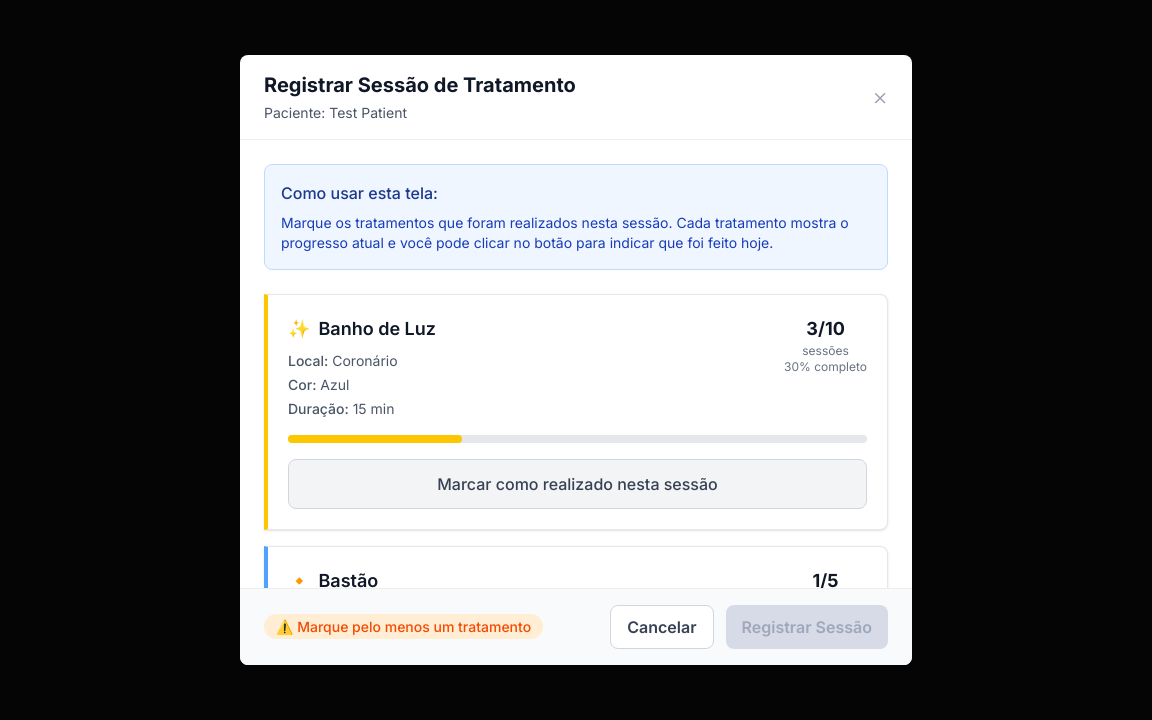
Scenario: PostTreatmentModal › Treatment Cards › should allow toggling treatment completion
Expected: the text "⚠️ Marque pelo menos um tratamento" is shown, 264,614 -> 543,639
Click to mark as completed
Click the button "Marcar como realizado nesta sessão" at (578, 484), box 288,459 -> 867,509
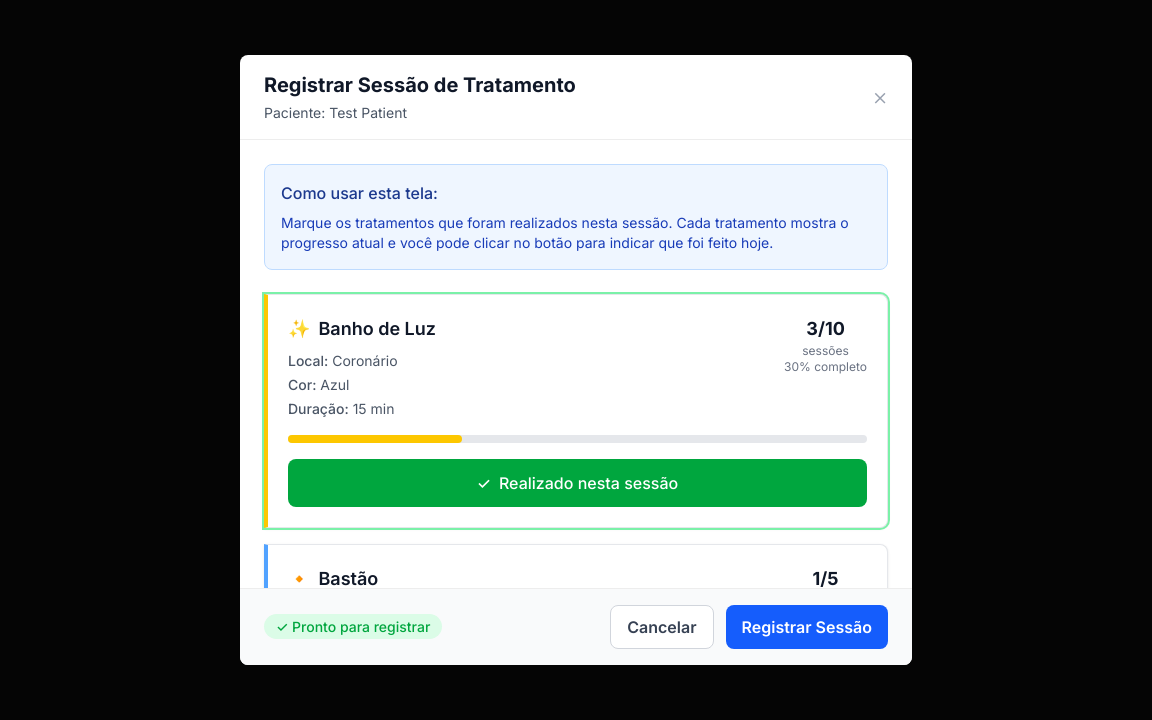
Result: the text "✓ Pronto para registrar" is shown at 264,614 -> 442,639
Result: the text "Realizado nesta sessão" is shown at 499,473 -> 678,493
Click again to unmark
Click the button named "marcar como realizado nesta sessão" at (578, 483), box 288,459 -> 867,507
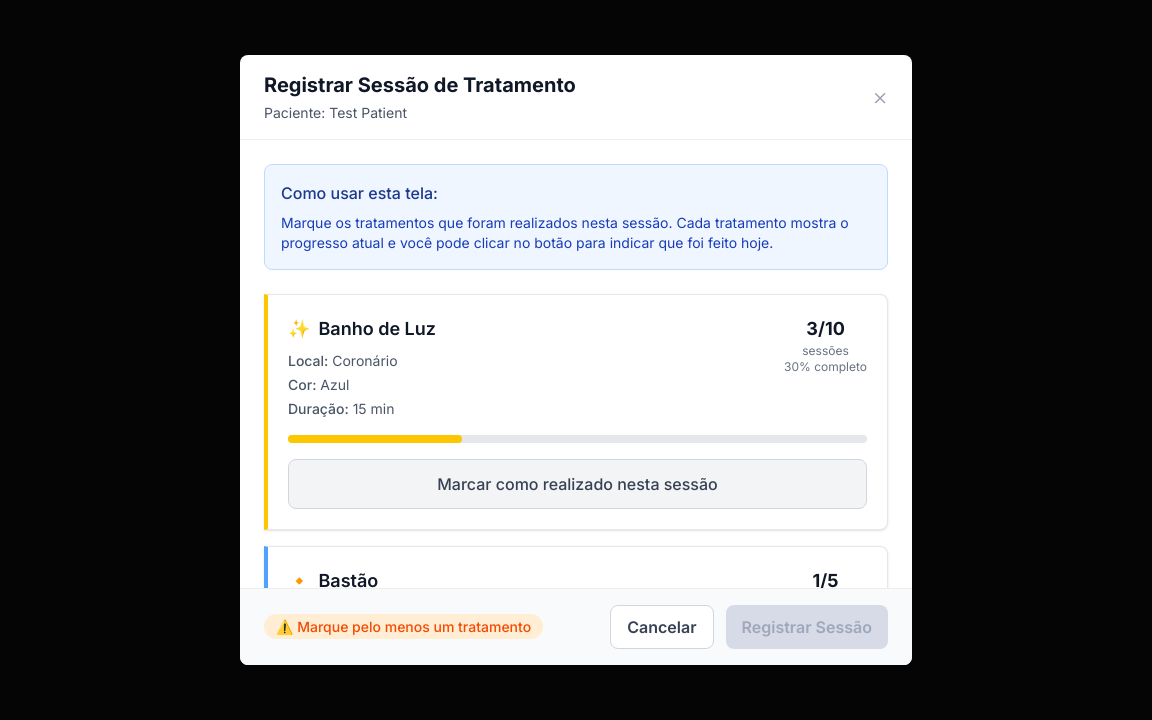
Result: the text "⚠️ Marque pelo menos um tratamento" is shown at 264,614 -> 543,639
